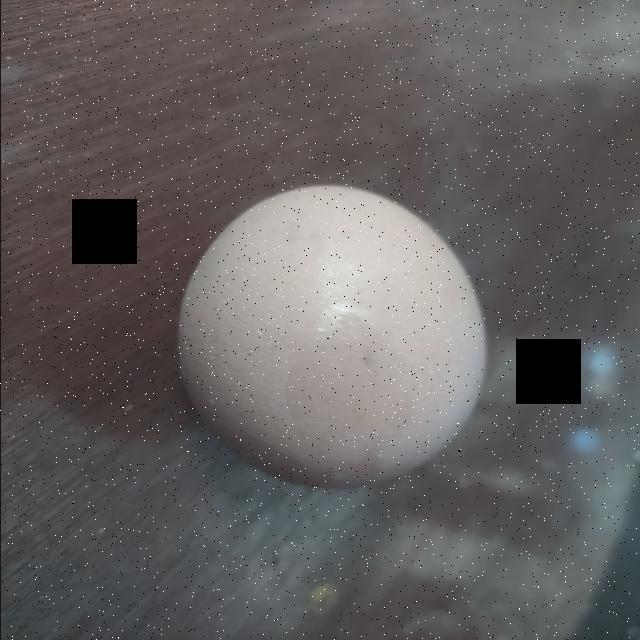egg: (166, 182, 494, 496)
